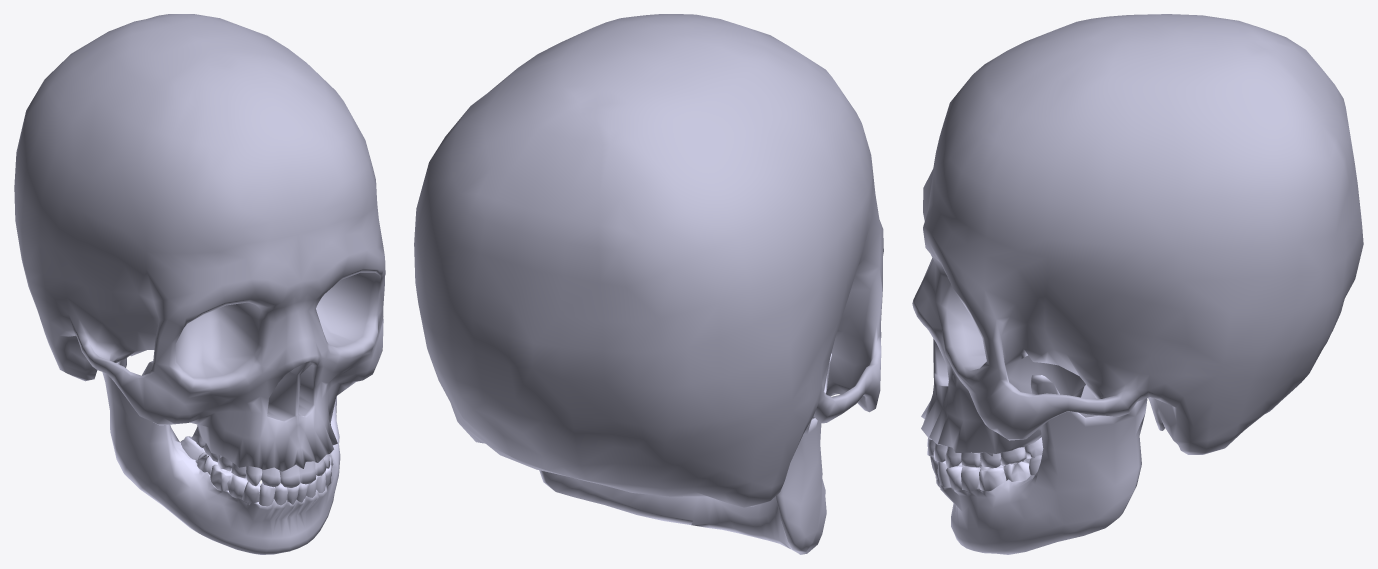
The model's file is Skull.fbx.
3 renders of one model, left to right at view 1: azimuth 30°, elevation 25°; view 2: azimuth 150°, elevation 25°; view 3: azimuth 270°, elevation 25°, orthographic. The views are drawn at different scales.
Visible parts, largest first — view 1: Skull, Jaw, Bottom_Teeth, Top_Teeth; view 2: Skull, Jaw; view 3: Skull, Jaw, Bottom_Teeth, Top_Teeth.
Part boxes in pixels (x1=…): Skull: x1=14, y1=14, x2=385, y2=471; Jaw: x1=102, y1=361, x2=340, y2=554; Bottom_Teeth: x1=180, y1=436, x2=331, y2=506; Top_Teeth: x1=191, y1=427, x2=329, y2=487; Skull: x1=414, y1=14, x2=883, y2=507; Jaw: x1=539, y1=353, x2=831, y2=554; Skull: x1=912, y1=14, x2=1363, y2=456; Jaw: x1=935, y1=375, x2=1147, y2=554; Bottom_Teeth: x1=930, y1=455, x2=1041, y2=491; Top_Teeth: x1=927, y1=437, x2=1043, y2=468.
Bounding box in the file's own units: 263 × 381 × 308.
